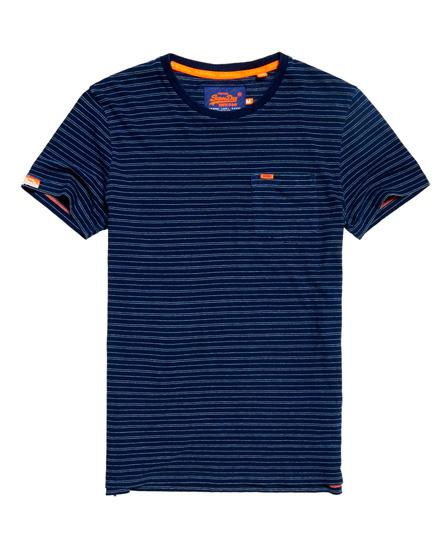teeshirt: (15, 44, 427, 502)
